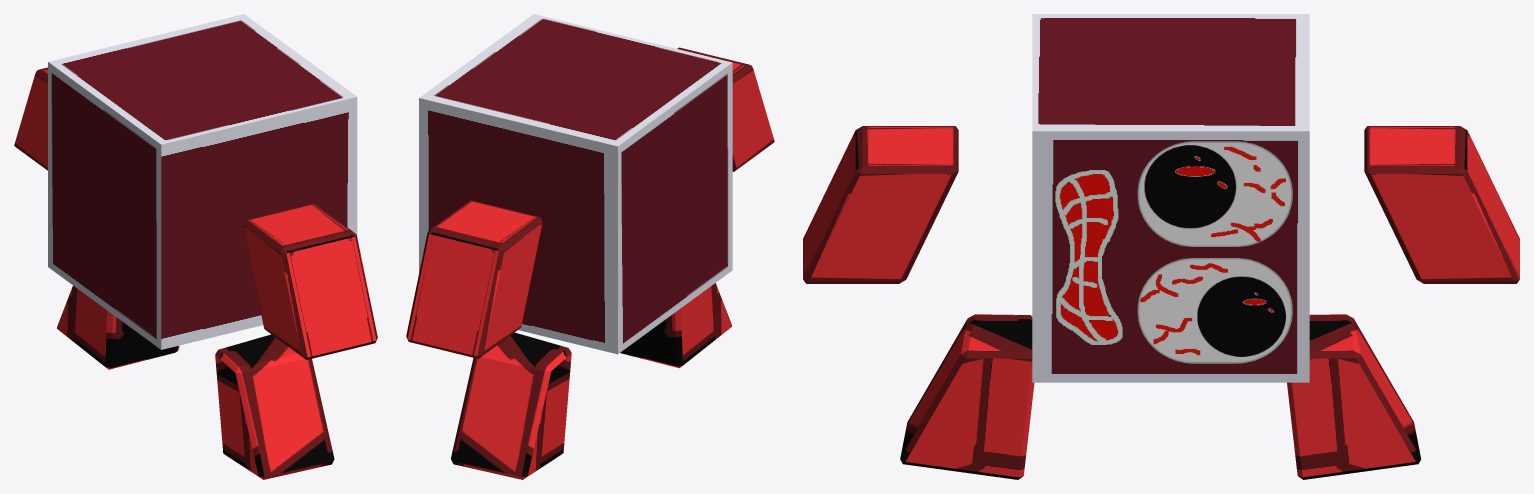
The model's file is Enemy1.gltf.
3 renders of one model, left to right at view 1: azimuth 30°, elevation 25°; view 2: azimuth 150°, elevation 25°; view 3: azimuth 270°, elevation 25°, orthographic. The views are drawn at different scales.
Visible parts, largest first — view 1: Cube, Cube.003, Cube.001; view 2: Cube, Cube.001, Cube.003; view 3: Cube, Cube.001, Cube.003.
Part boxes in pixels (x1=…): Cube: x1=48, y1=14, x2=357, y2=349; Cube.003: x1=57, y1=285, x2=334, y2=479; Cube.001: x1=14, y1=67, x2=377, y2=359; Cube: x1=419, y1=14, x2=732, y2=354; Cube.001: x1=406, y1=47, x2=774, y2=358; Cube.003: x1=451, y1=283, x2=731, y2=479; Cube: x1=1032, y1=14, x2=1309, y2=382; Cube.001: x1=803, y1=126, x2=1519, y2=283; Cube.003: x1=900, y1=314, x2=1421, y2=479.
Bounding box in the file's own units: 1.95 × 3.06 × 5.05.
Materials: 2 (2 with a texture image).
